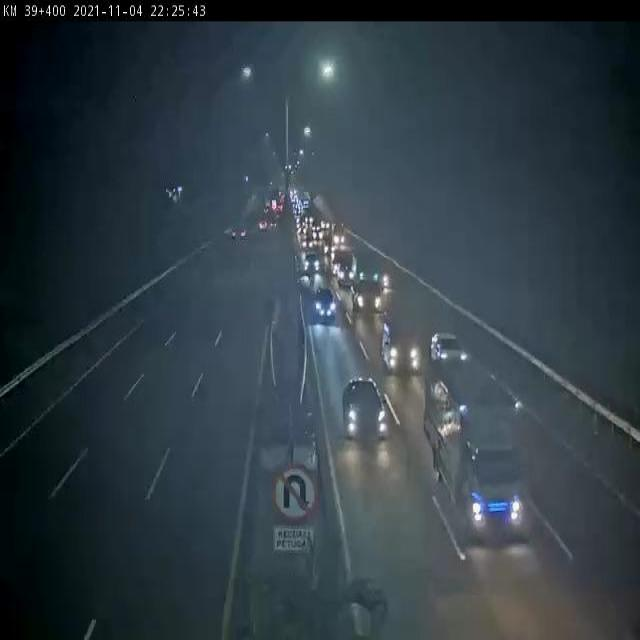Car: (337, 372, 393, 451), (381, 319, 421, 370), (424, 326, 468, 364), (350, 280, 390, 320), (334, 253, 363, 292), (309, 288, 341, 323), (300, 247, 322, 277)
Truck: (412, 357, 546, 546)
